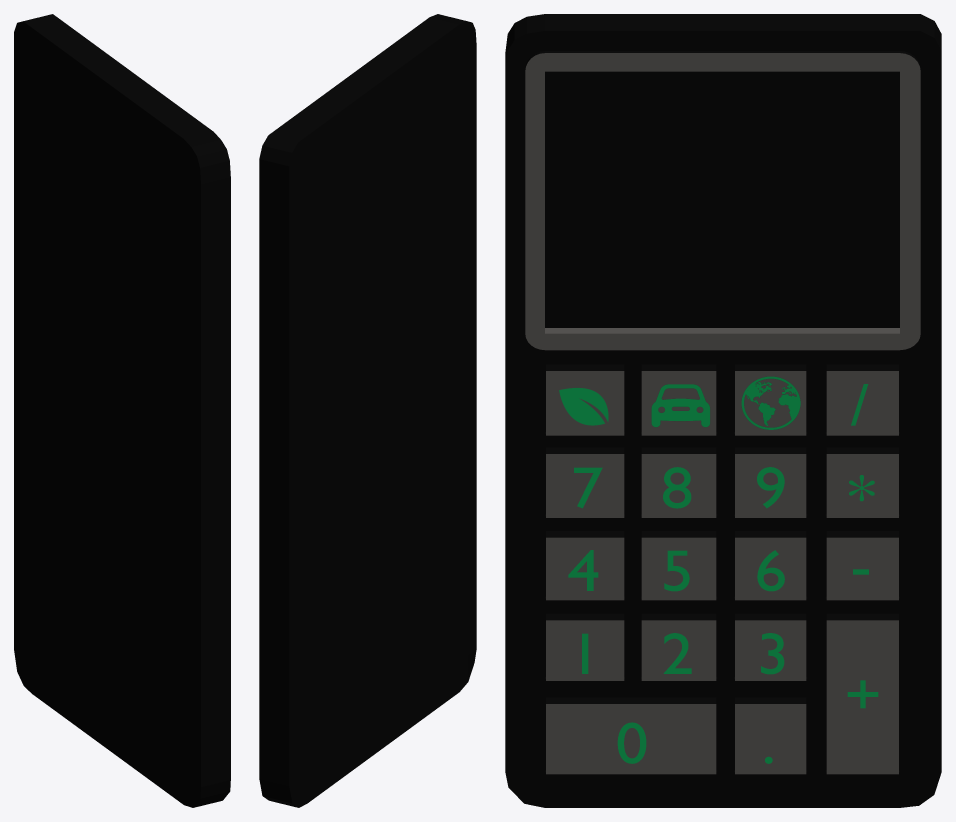
File: calculator.glb
The picture shows the model from 3 angles, left to right: view 1: azimuth 30°, elevation 25°; view 2: azimuth 150°, elevation 25°; view 3: azimuth 270°, elevation 25°; orthographic projection. The views are drawn at different scales.
Parts seen in each view (by area): view 1: Cube; view 2: Cube; view 3: Cube, 17090219771349276, output-onlinepngtools (1), dc6980a67acd5e2d4a13bc446e9e3378-green-leaf-big-icon.
Part boxes in pixels (box(x1,y1,x2,y2)): Cube: box(14, 14, 230, 807); Cube: box(259, 14, 476, 807); Cube: box(505, 14, 941, 807); 17090219771349276: box(651, 384, 710, 427); output-onlinepngtools (1): box(741, 376, 800, 429); dc6980a67acd5e2d4a13bc446e9e3378-green-leaf-big-icon: box(559, 388, 608, 425).
Size of the model in its own units: 0.2653 by 4.18 by 2.13.
7 materials, 3 textured.
